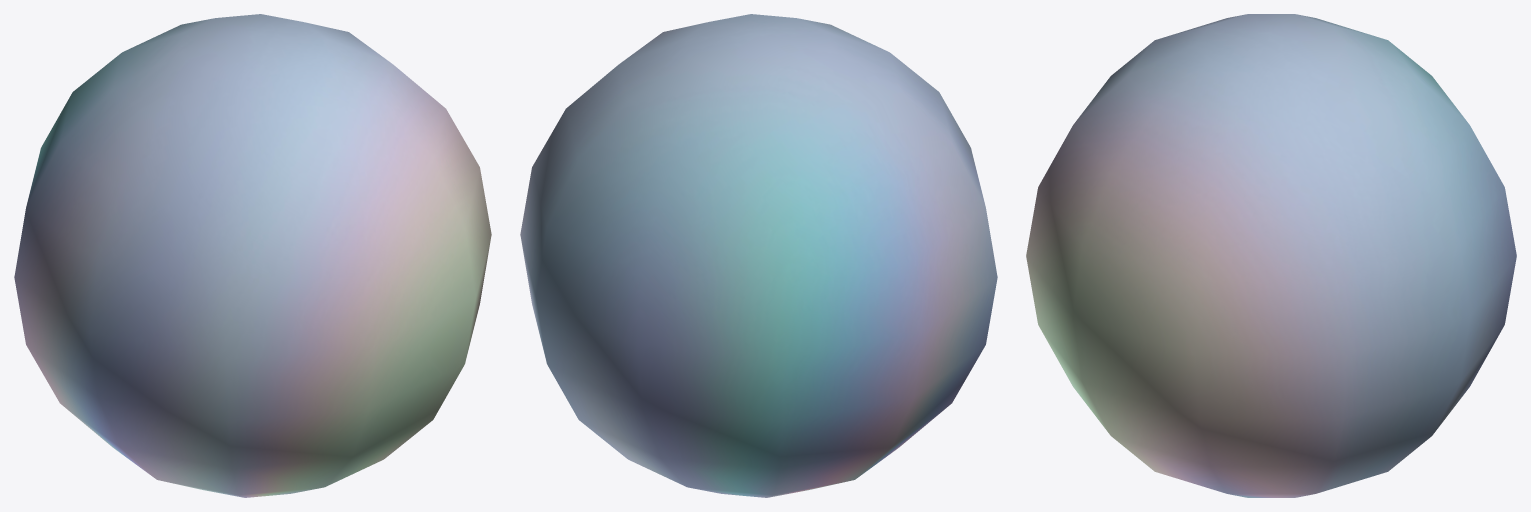
The model's file is soul_orb.glb.
3 views of the same model, side by side, from view 1: azimuth 30°, elevation 25°; view 2: azimuth 150°, elevation 25°; view 3: azimuth 270°, elevation 25° (orthographic).
Visible parts, largest first — view 1: Sphere; view 2: Sphere; view 3: Sphere.
Boxes of the visible parts, bbox=[...] form: Sphere: bbox=[14, 14, 491, 497]; Sphere: bbox=[520, 14, 997, 497]; Sphere: bbox=[1026, 14, 1516, 497].
Size of the model in its own units: 0.7409 by 0.779 by 0.779.
1 material, 1 textured.
